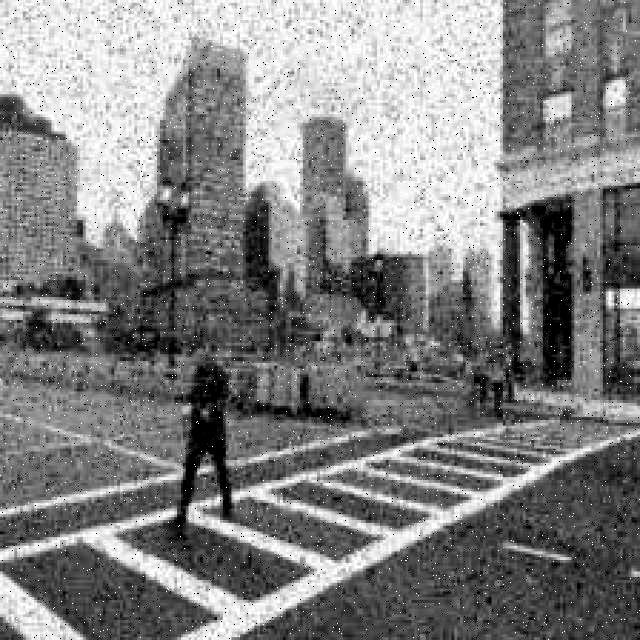crosswalk: (1, 405, 632, 639)
